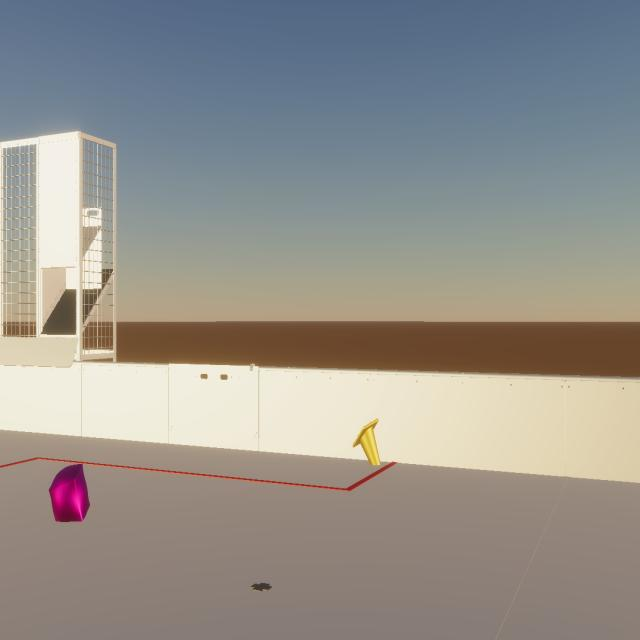frc_cone: (352, 418, 381, 466)
frc_cube: (49, 464, 90, 522)
